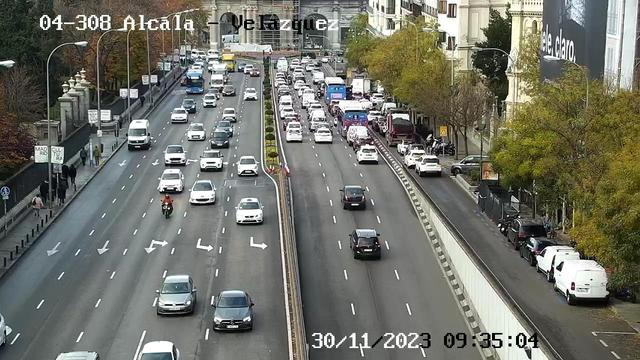bus: (337, 100, 368, 136), (324, 77, 346, 105), (185, 69, 205, 95)
car: (211, 290, 254, 331), (156, 275, 197, 314), (507, 218, 547, 249), (520, 237, 557, 266), (348, 229, 381, 259), (451, 155, 490, 177), (137, 341, 181, 360), (235, 197, 264, 224), (189, 180, 217, 204), (339, 184, 365, 209), (158, 169, 184, 192), (414, 155, 442, 176), (163, 145, 188, 166), (200, 150, 224, 171), (236, 156, 260, 176), (356, 144, 379, 163), (405, 150, 427, 169), (353, 136, 374, 153), (186, 123, 206, 140), (211, 131, 230, 148), (215, 120, 233, 137), (314, 127, 332, 143), (171, 108, 188, 123), (286, 128, 302, 143), (180, 98, 196, 113)
motorcycle: (498, 211, 520, 233), (430, 138, 455, 155), (160, 199, 173, 219)
truck: (553, 259, 610, 305), (536, 246, 581, 281), (385, 110, 417, 147), (126, 119, 150, 149), (222, 54, 237, 71)
